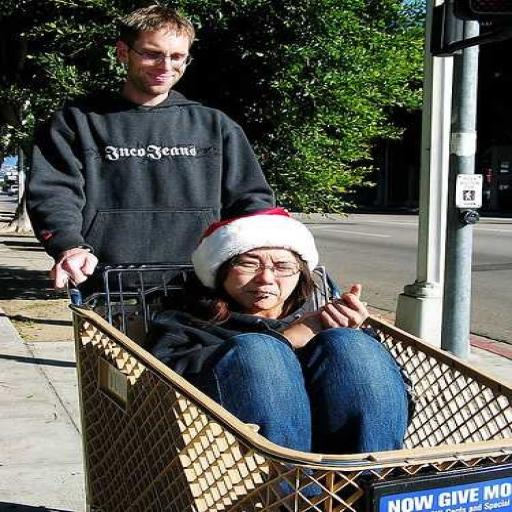shopping_cart: (66, 262, 512, 512)
